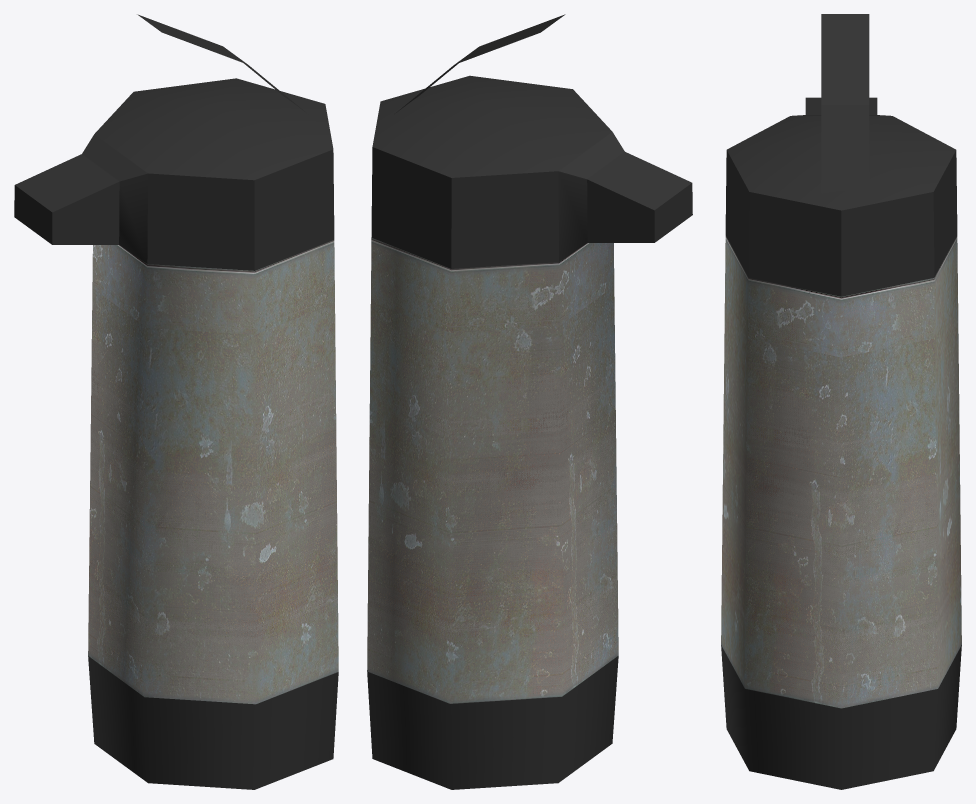
The model's file is M_Home_Garden_coffeepot.fbx.
3 views of the same model, side by side, from view 1: azimuth 30°, elevation 25°; view 2: azimuth 150°, elevation 25°; view 3: azimuth 270°, elevation 25° (orthographic). The views are drawn at different scales.
Parts seen in each view (by area): view 1: M_Home_Garden_coffeepot; view 2: M_Home_Garden_coffeepot; view 3: M_Home_Garden_coffeepot.
Part boxes in pixels (x1,y1,x2,y2): M_Home_Garden_coffeepot: (14, 14, 338, 789); M_Home_Garden_coffeepot: (367, 14, 692, 789); M_Home_Garden_coffeepot: (721, 14, 961, 789).
Size of the model in its own units: 23.09 by 54.34 by 17.06.
